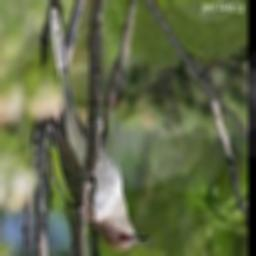Cuckoo: (49, 6, 151, 252)
